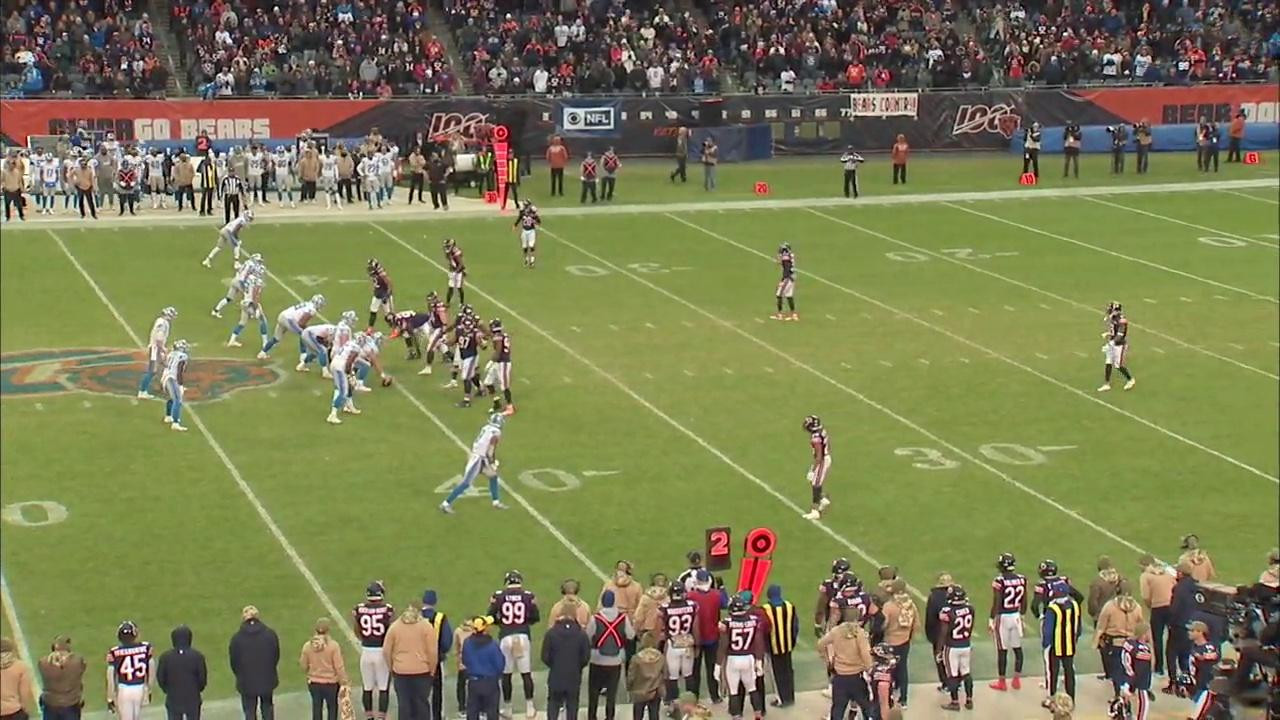defense: (438, 302, 493, 391), (440, 314, 490, 410), (1095, 301, 1137, 397), (799, 413, 834, 520), (416, 288, 455, 376), (361, 257, 402, 340), (484, 316, 516, 418), (767, 242, 803, 323), (384, 308, 433, 363), (510, 199, 544, 269), (438, 236, 468, 310)
oline: (254, 292, 328, 365), (324, 331, 367, 425), (348, 329, 393, 392), (294, 323, 340, 380), (329, 309, 360, 365)
qb: (135, 304, 180, 403)
ref: (668, 546, 720, 596), (217, 165, 248, 225), (839, 144, 866, 200)
skill: (439, 410, 511, 518), (209, 251, 267, 320), (225, 263, 271, 350), (200, 208, 257, 270), (160, 337, 193, 434)
